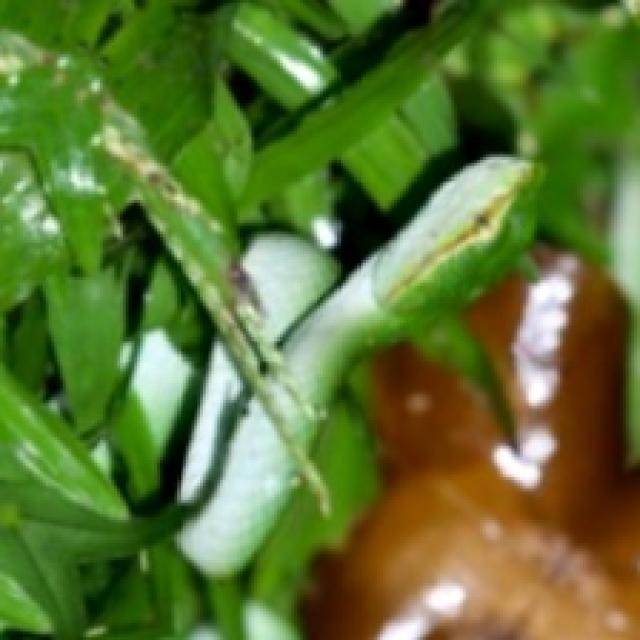north ph temple pitviper: (283, 157, 534, 409), (177, 403, 297, 571)
